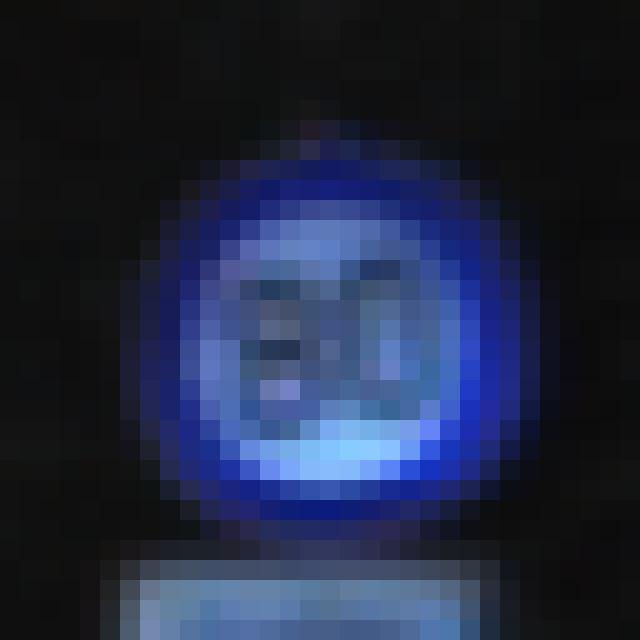SPEED-LIMIT-80: (125, 161, 522, 527)
